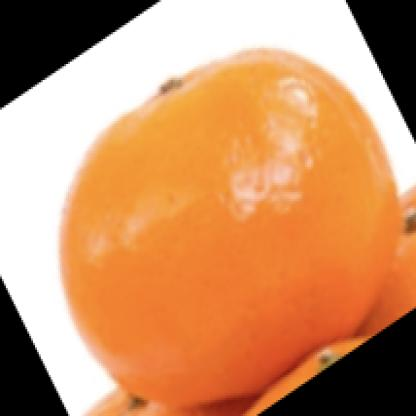fresh: (61, 49, 407, 402)
